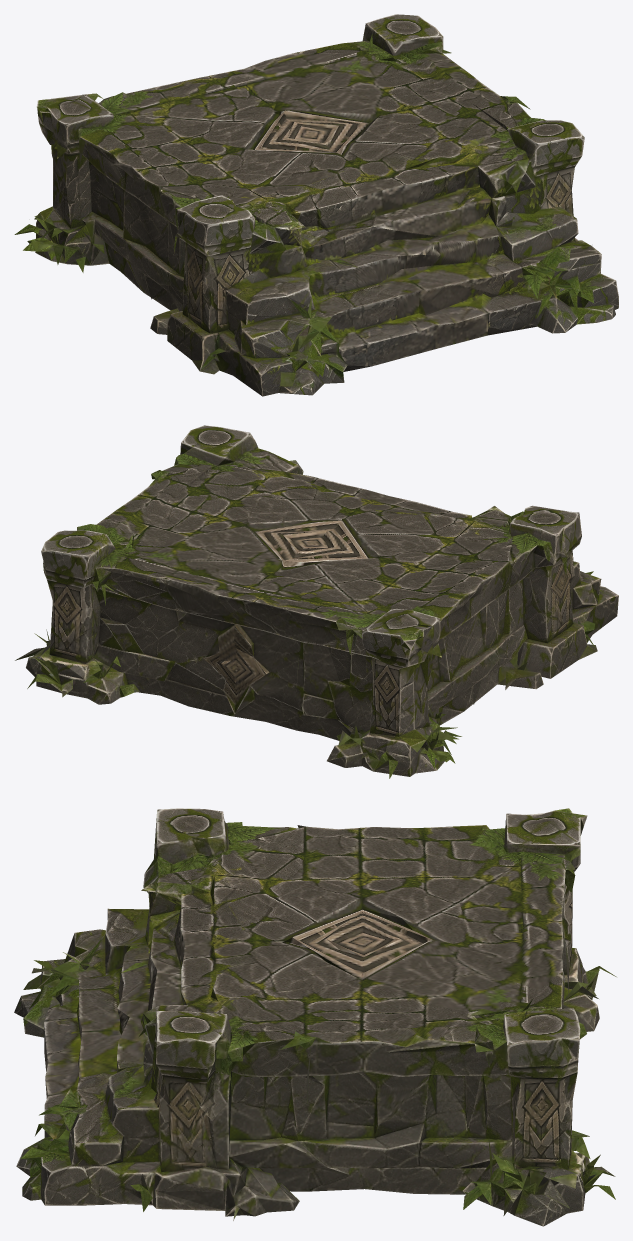
Rendered from platforma4k_lowtexture.glb.
The picture shows the model from 3 angles, top to bottom: view 1: azimuth 30°, elevation 25°; view 2: azimuth 150°, elevation 25°; view 3: azimuth 270°, elevation 25°; orthographic projection. The views are drawn at different scales.
Visible parts, largest first — view 1: Mesh_0; view 2: Mesh_0; view 3: Mesh_0.
Boxes of the visible parts, box(x1,y1,x2,y2) form: Mesh_0: box(14, 14, 618, 396); Mesh_0: box(15, 425, 618, 778); Mesh_0: box(14, 808, 616, 1226).
Size of the model in its own units: 1.87 by 0.5932 by 1.83.
1 material, 1 textured.
